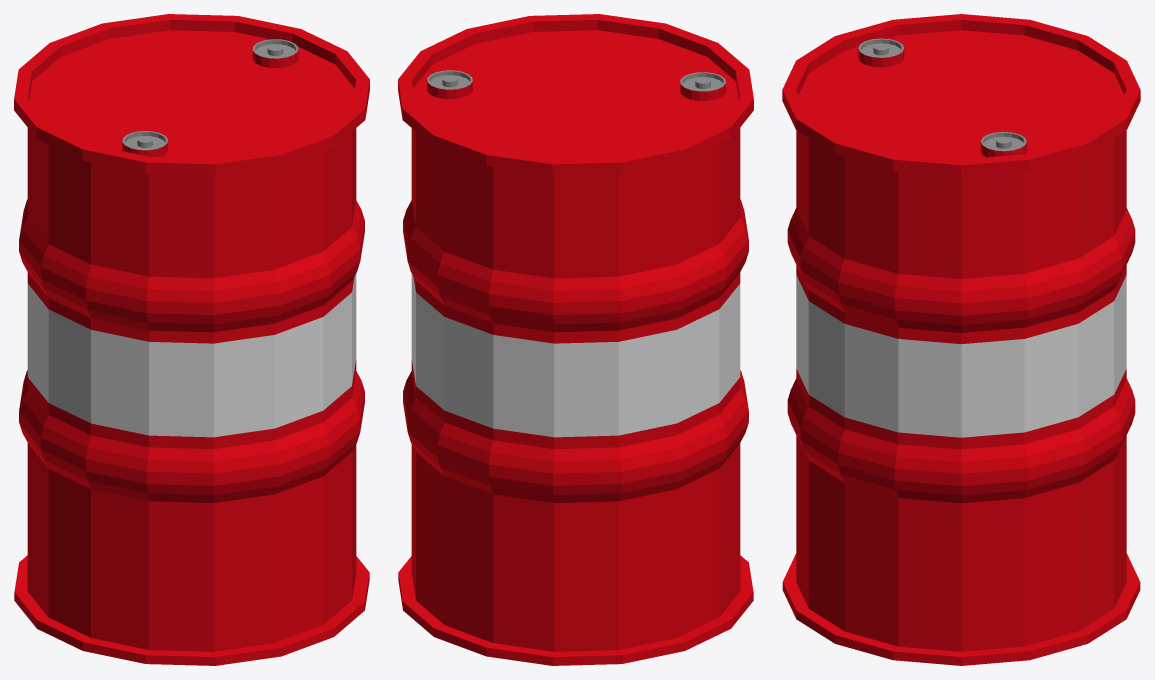
File: Barrel.fbx
3 renders of one model, left to right at view 1: azimuth 30°, elevation 25°; view 2: azimuth 150°, elevation 25°; view 3: azimuth 270°, elevation 25°, orthographic.
Visible parts, largest first — view 1: Cylinder; view 2: Cylinder; view 3: Cylinder.
Part boxes in pixels (x1,y1,x2,y2): Cylinder: (14, 14, 369, 665); Cylinder: (398, 14, 753, 665); Cylinder: (782, 14, 1140, 665).
Size of the model in its own units: 217 by 335 by 217.
